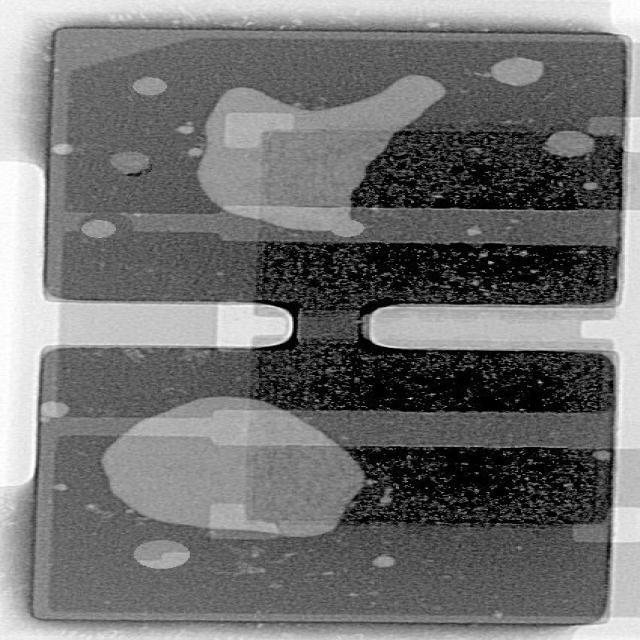component: (35, 30, 614, 624)
void: (197, 74, 446, 237), (101, 398, 363, 540), (133, 542, 190, 570), (491, 57, 544, 86), (544, 130, 595, 157), (108, 151, 149, 175), (131, 77, 167, 95), (80, 219, 114, 238), (574, 525, 608, 544), (39, 401, 69, 419), (372, 556, 396, 569), (378, 487, 393, 507), (175, 121, 194, 134), (465, 226, 483, 236), (50, 484, 68, 492), (583, 182, 599, 189)
